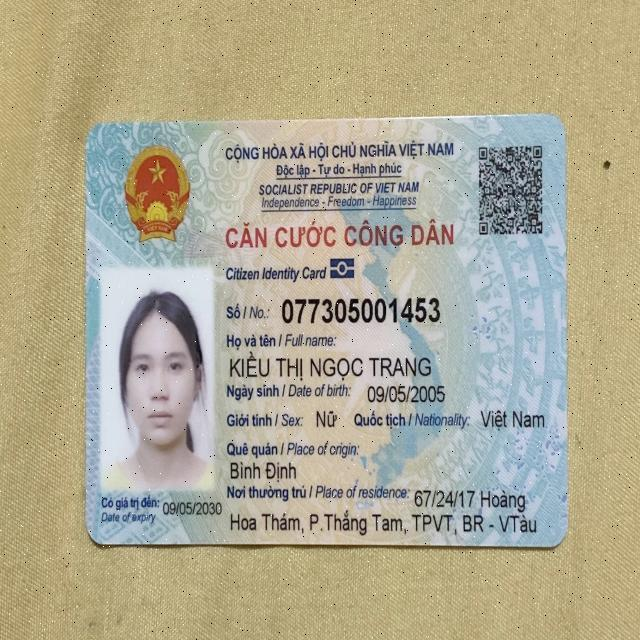current_place: (228, 507, 543, 540), (413, 480, 532, 514)
dob: (366, 379, 449, 405)
expire_date: (159, 497, 221, 520)
gender: (313, 405, 343, 429)
id: (279, 295, 445, 329)
name: (227, 347, 439, 379)
nationality: (478, 407, 549, 432)
origin_place: (221, 454, 305, 485)
qr: (474, 140, 550, 245)
